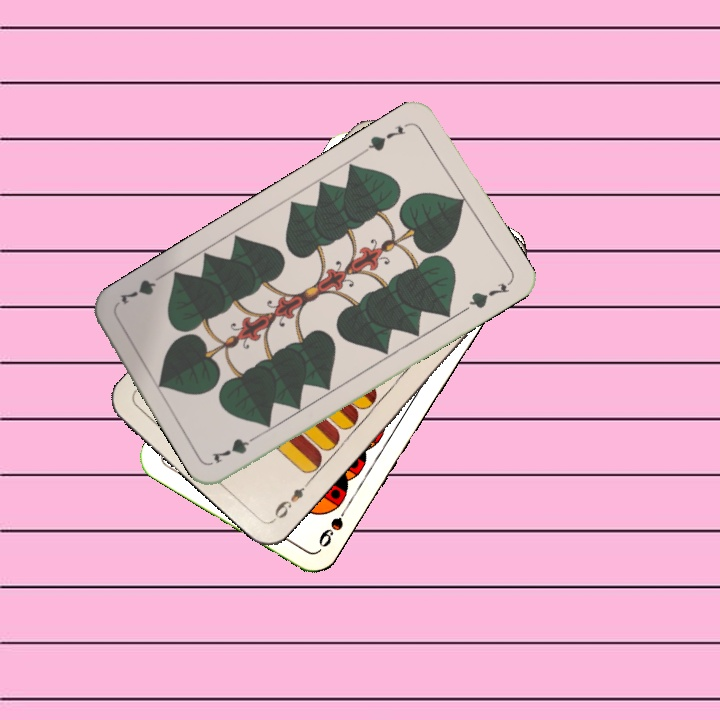E9: (269, 476, 313, 523)
G7: (207, 429, 264, 467), (359, 118, 413, 155)
S9: (314, 498, 353, 550)
